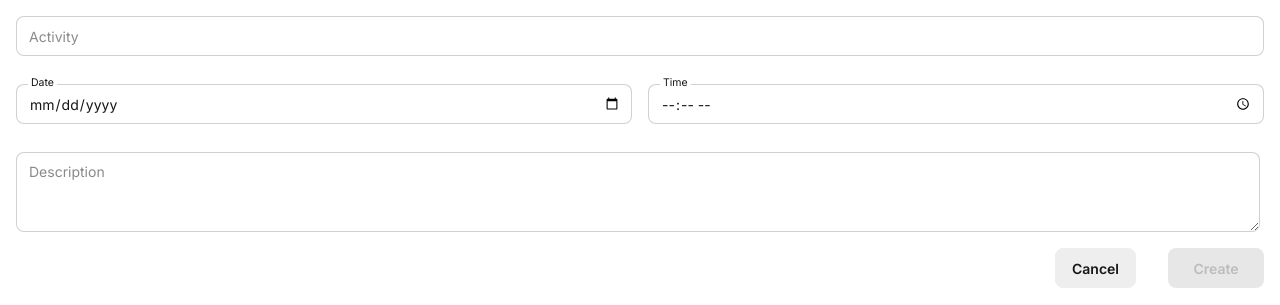
it: Itinerary Item Editor › activity input › required error › is no longer displayed after text entry
The width and height of the screenshot is (1280, 305).
Click the field labelled "Activity". click: (640, 36)
box: [16,16,1264,56]
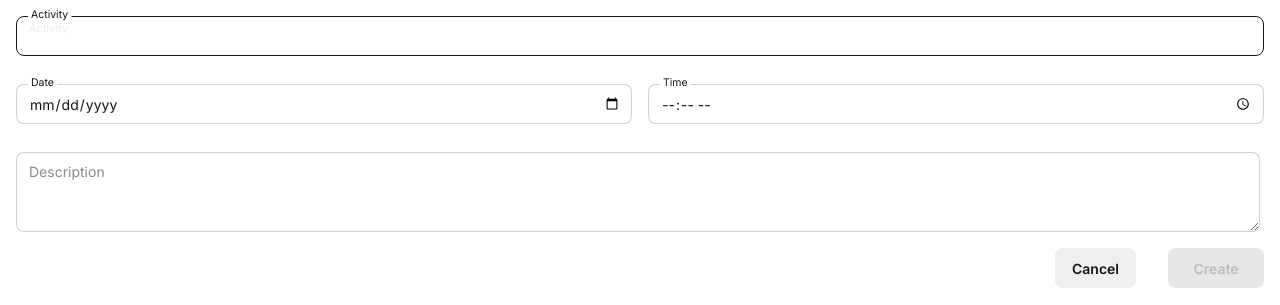
Press Tab
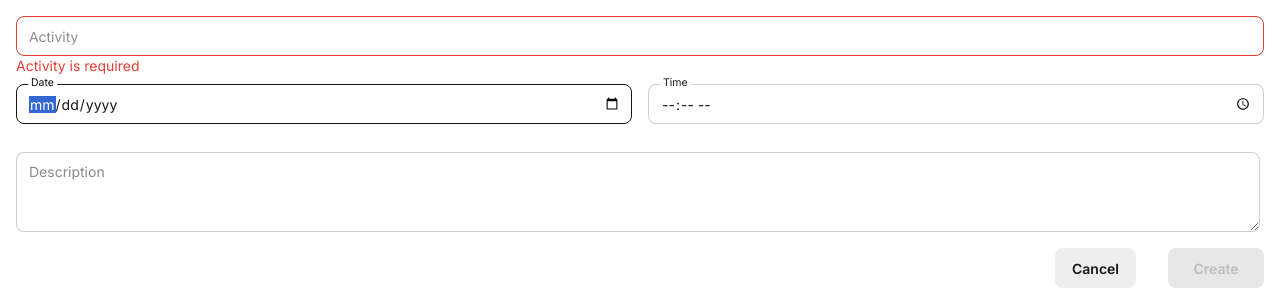
Check: the text "Activity is required" is shown, box [16,57,140,74]
Type "f" into the field labelled "Activity". click: (640, 36)
box: [16,16,1264,56]
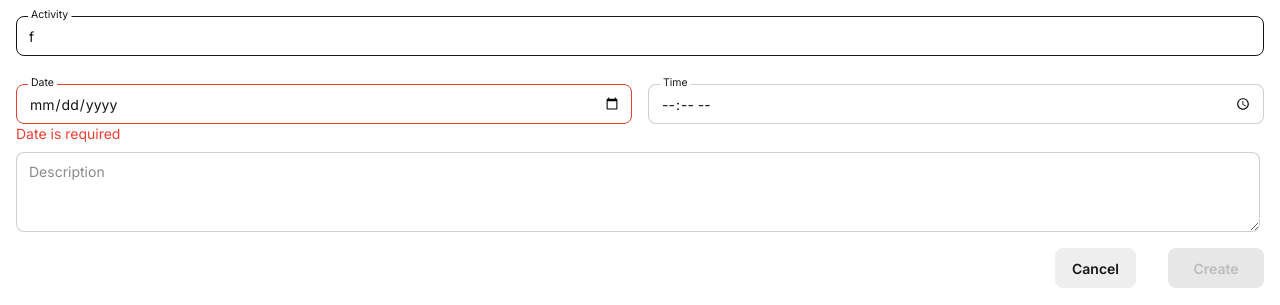
Check: the text "Activity is required" is gone
